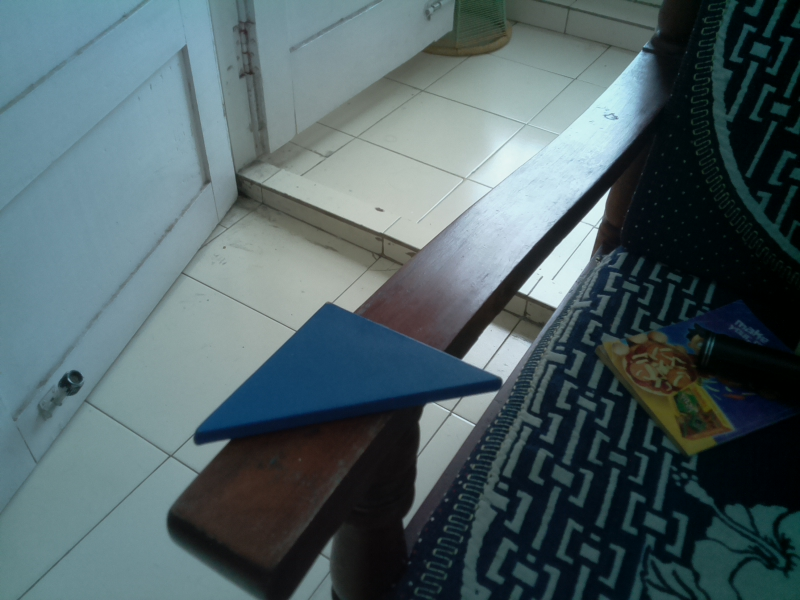Triangle: (190, 301, 508, 447)
